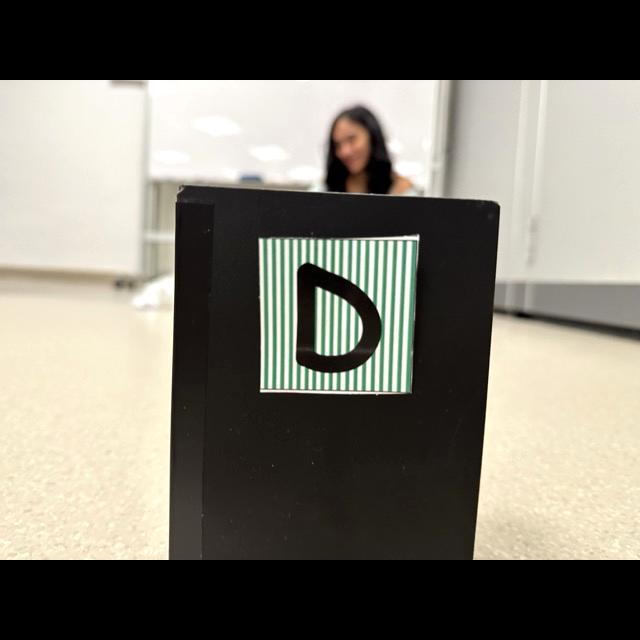D: (296, 263, 381, 372)
